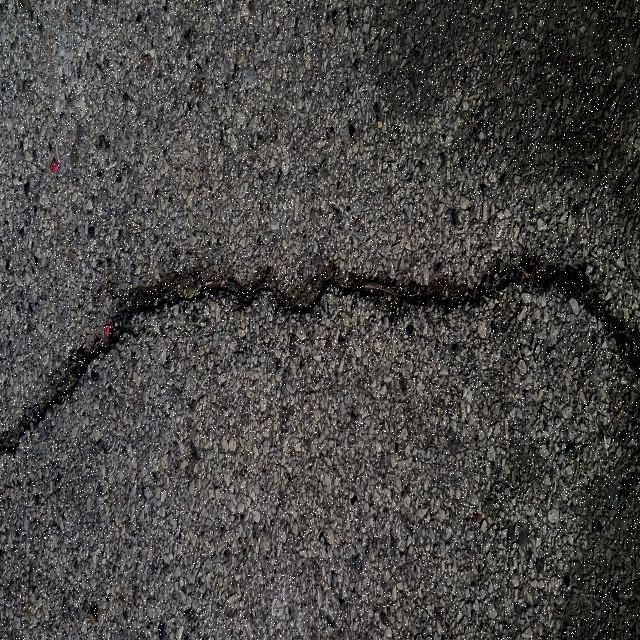Crack: (0, 255, 640, 457)
